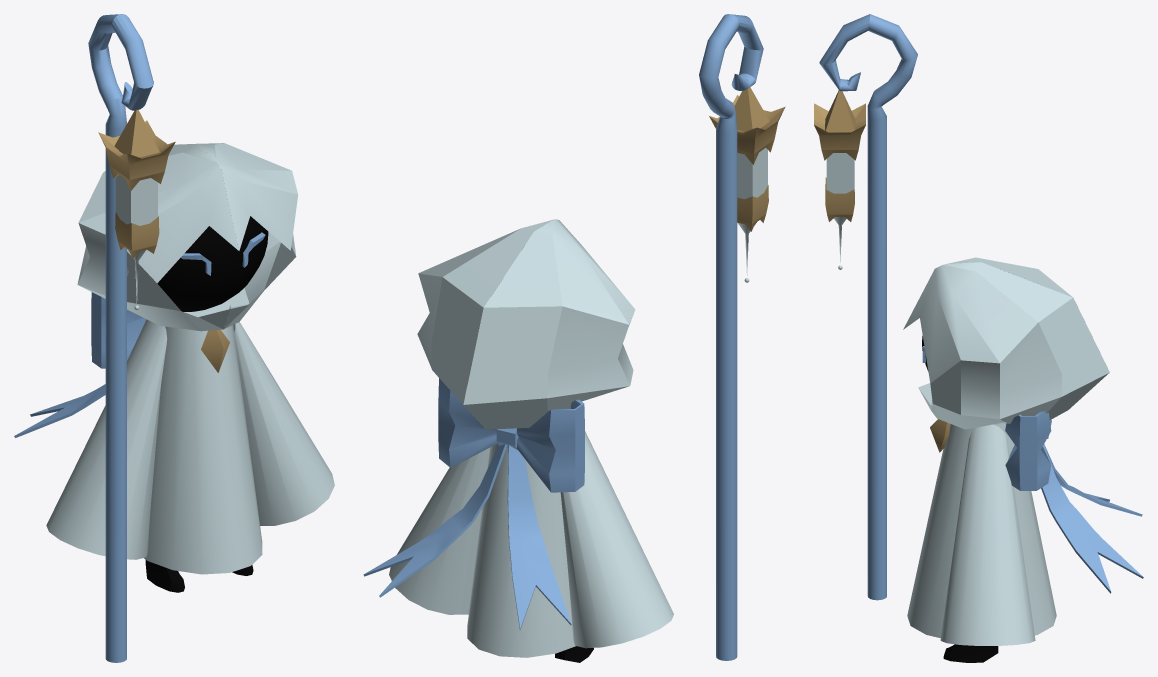
File: JameShita3.fbx
3 views of the same model, side by side, from view 1: azimuth 30°, elevation 25°; view 2: azimuth 150°, elevation 25°; view 3: azimuth 270°, elevation 25° (orthographic). The views are drawn at different scales.
Visible parts, largest first — view 1: bodyhood, upperhood, pCylinder1, rightarm, leftarm, headblack, pCube2, pCube3, tie2, pCube4, pCone1, ribbon1 (+2 smaller); view 2: upperhood, pCylinder1, rightarm, bodyhood, leftarm, ribbon1, tie2, ribbon2, tie1, pCube2, pCube3, pCone1 (+1 smaller); view 3: upperhood, leftarm, pCylinder1, bodyhood, ribbon2, tie1, pCube2, pCube3, pCone1, left_leg, pCube4, ribbon1.
Boxes of the visible parts, <box> form: bodyhood: <box>144,300,262,574</box>; upperhood: <box>77,143,298,331</box>; pCylinder1: <box>88,14,153,662</box>; rightarm: <box>46,319,167,559</box>; leftarm: <box>233,322,334,525</box>; headblack: <box>157,216,268,311</box>; pCube2: <box>98,120,175,190</box>; pCube3: <box>115,174,157,225</box>; tie2: <box>91,292,146,368</box>; pCube4: <box>115,212,159,258</box>; pCone1: <box>114,109,159,157</box>; ribbon1: <box>14,384,105,437</box>; upperhood: <box>417,219,635,429</box>; pCylinder1: <box>699,14,763,660</box>; rightarm: <box>560,431,673,648</box>; bodyhood: <box>467,443,575,657</box>; leftarm: <box>389,447,490,614</box>; ribbon1: <box>507,445,571,629</box>; tie2: <box>517,399,584,492</box>; ribbon2: <box>363,444,507,597</box>; tie1: <box>438,378,497,467</box>; pCube2: <box>709,95,785,164</box>; pCube3: <box>737,148,767,199</box>; pCone1: <box>734,87,769,131</box>; upperhood: <box>903,257,1109,429</box>; leftarm: <box>940,424,1035,645</box>; pCylinder1: <box>819,14,917,600</box>; bodyhood: <box>907,423,1056,638</box>; ribbon2: <box>1041,445,1143,593</box>; tie1: <box>1005,411,1051,490</box>; pCube2: <box>814,103,865,160</box>; pCube3: <box>826,153,854,193</box>; pCone1: <box>825,90,855,131</box>; left_leg: <box>943,644,998,662</box>; pCube4: <box>825,177,854,221</box>; ribbon1: <box>1044,444,1142,516</box>.
Size of the model in its own units: 6.44 by 13.43 by 6.91.
